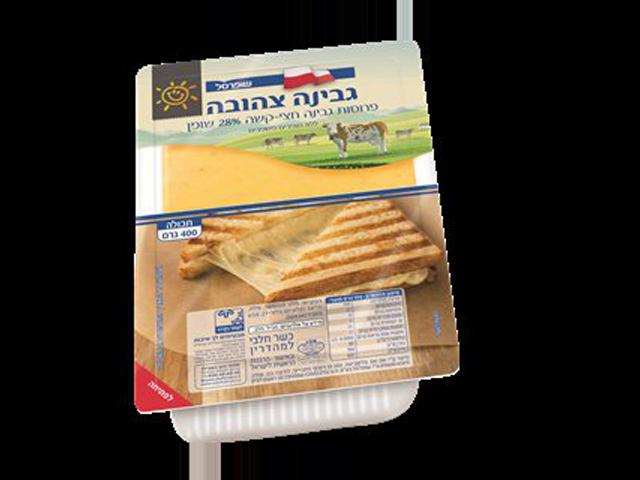cheese: (146, 42, 450, 444)
